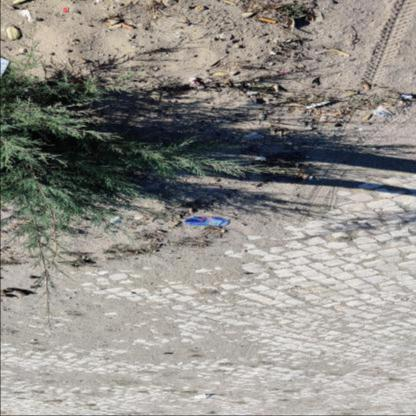Can: (184, 217, 230, 227)
Cigarette: (258, 18, 276, 24), (122, 23, 135, 29), (362, 82, 371, 90), (320, 113, 341, 116), (319, 117, 328, 123), (255, 156, 267, 160), (136, 215, 146, 219), (302, 174, 308, 180), (255, 156, 263, 159), (174, 221, 180, 225), (308, 176, 313, 180), (188, 209, 192, 212), (153, 250, 157, 252)
Paper: (194, 394, 222, 400)
Plastic bag - wrapper: (402, 94, 412, 99)
Unlabeled litter: (14, 10, 31, 25), (305, 102, 331, 110), (374, 107, 392, 117), (189, 78, 203, 90), (147, 382, 153, 384)
